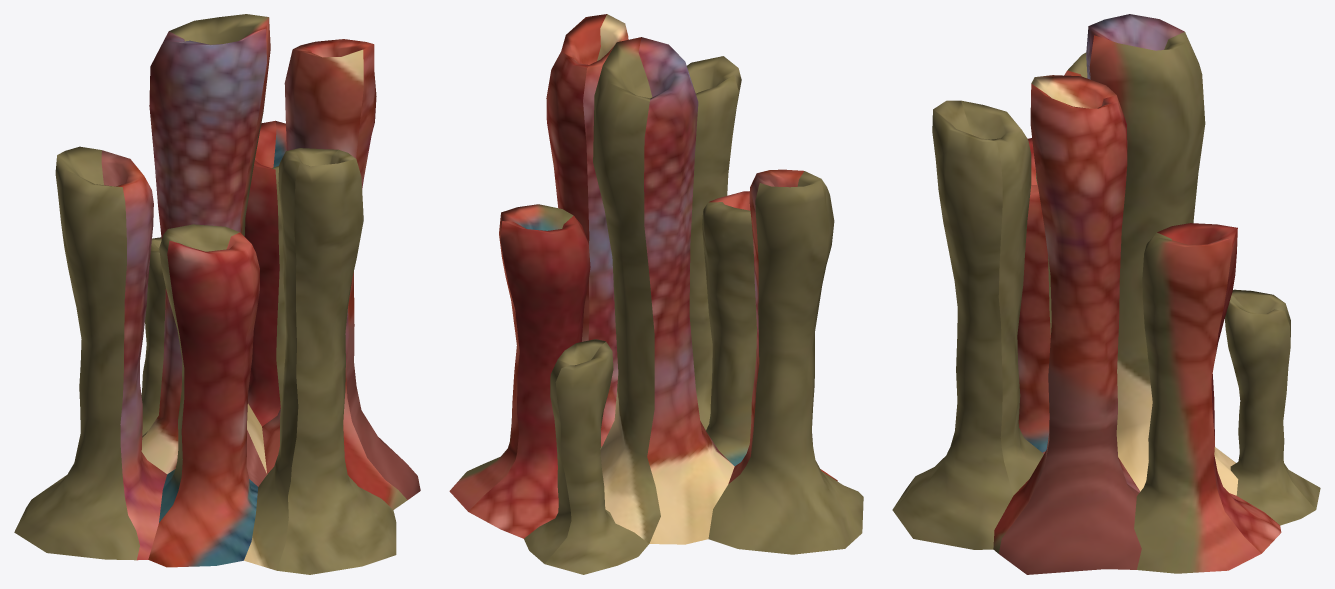
The model's file is softcoral-03.glb.
3 views of the same model, side by side, from view 1: azimuth 30°, elevation 25°; view 2: azimuth 150°, elevation 25°; view 3: azimuth 270°, elevation 25° (orthographic). The views are drawn at different scales.
Parts seen in each view (by area): view 1: coral11; view 2: coral11; view 3: coral11.
Boxes of the visible parts, left/top/right/bottom form: coral11: left=14, top=14, right=420, bottom=574; coral11: left=449, top=14, right=863, bottom=574; coral11: left=892, top=14, right=1320, bottom=574.
Bounding box in the file's own units: 1.64 × 1.98 × 1.59.
1 material, 1 textured.
